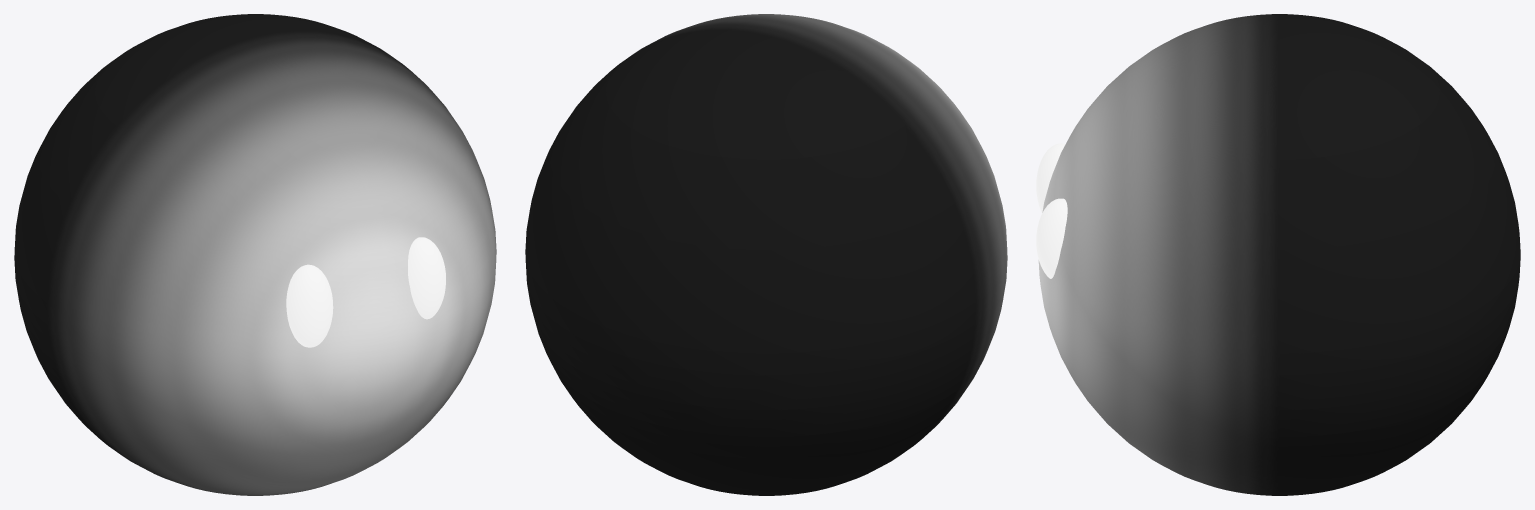
The model's file is kimi_mascot.glb.
3 views of the same model, side by side, from view 1: azimuth 30°, elevation 25°; view 2: azimuth 150°, elevation 25°; view 3: azimuth 270°, elevation 25° (orthographic).
Parts seen in each view (by area): view 1: Kimi_Body, Kimi_Eye_L, Kimi_Eye_R; view 2: Kimi_Body; view 3: Kimi_Body, Kimi_Eye_R, Kimi_Eye_L.
Part boxes in pixels (<box>): Kimi_Body: <box>14,14,496,495</box>; Kimi_Eye_L: <box>286,264,333,347</box>; Kimi_Eye_R: <box>408,237,445,319</box>; Kimi_Body: <box>525,14,1007,495</box>; Kimi_Body: <box>1038,14,1520,495</box>; Kimi_Eye_R: <box>1036,198,1067,278</box>; Kimi_Eye_L: <box>1036,143,1065,212</box>.
Size of the model in its own units: 2 by 2 by 2.01.
Materials: 2 (1 with a texture image).
